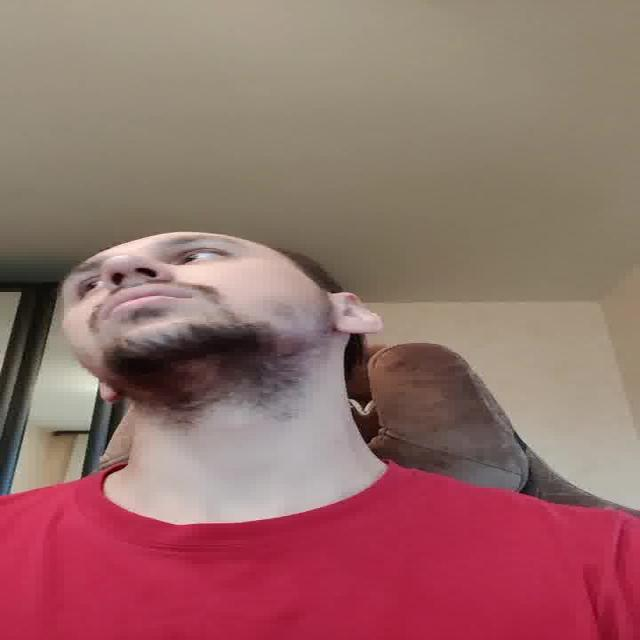earlobe: (336, 319, 373, 335), (98, 383, 120, 403)
eye: (177, 248, 230, 266), (70, 276, 107, 296)
nose: (104, 272, 177, 291)
wholeear: (328, 292, 384, 335)
